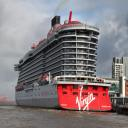cruises: (15, 11, 114, 114)
